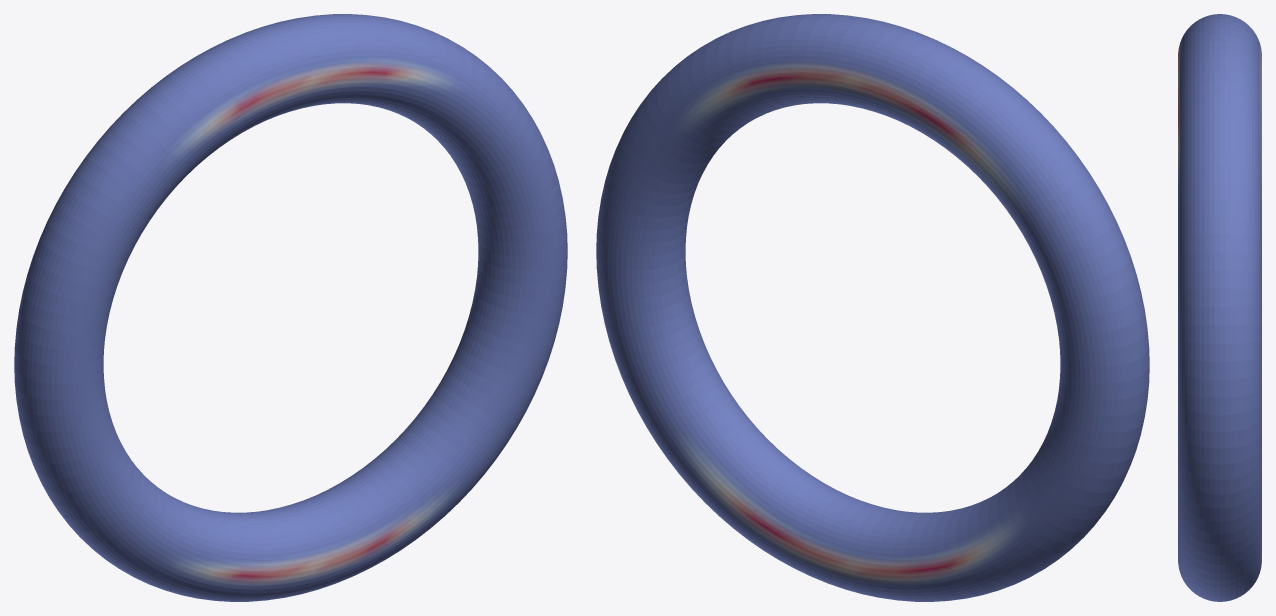
3 renders of one model, left to right at view 1: azimuth 30°, elevation 25°; view 2: azimuth 150°, elevation 25°; view 3: azimuth 270°, elevation 25°, orthographic. The views are drawn at different scales.
Parts seen in each view (by area): view 1: world; view 2: world; view 3: world.
Part boxes in pixels (<box>): world: <box>14,14,567,601</box>; world: <box>596,14,1149,601</box>; world: <box>1178,14,1261,601</box>.
Size of the model in its own units: 14 by 14 by 2.
